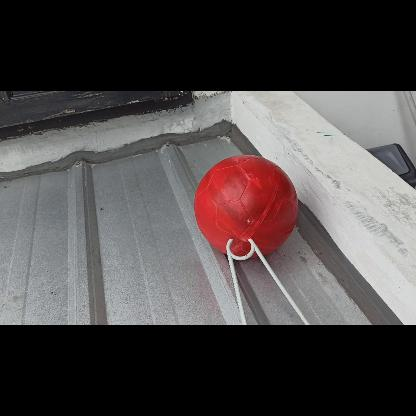red_ball: (192, 154, 298, 258)
